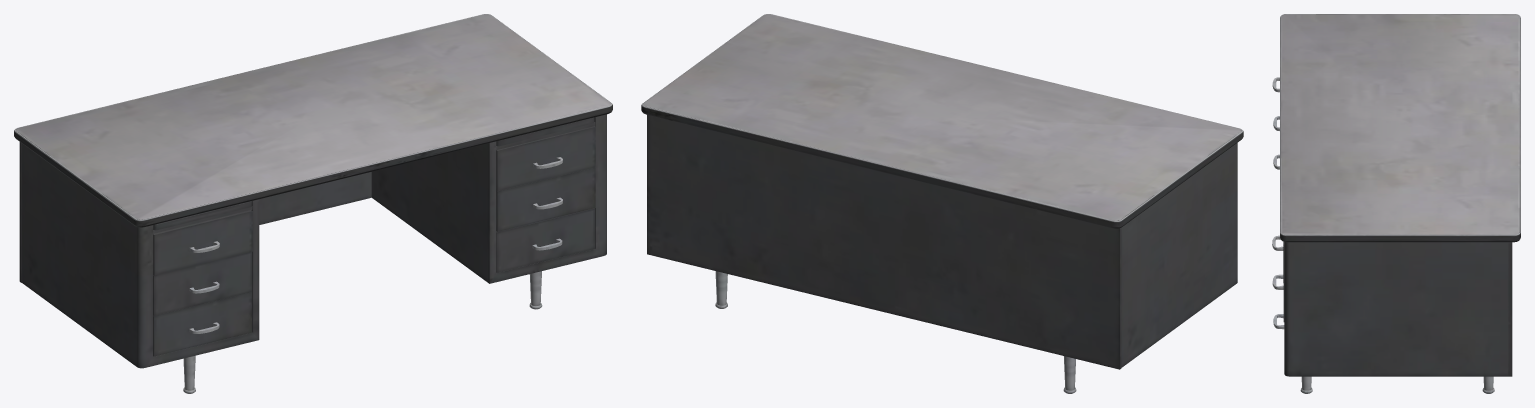
The model's file is metal_office_desk.glb.
3 views of the same model, side by side, from view 1: azimuth 30°, elevation 25°; view 2: azimuth 150°, elevation 25°; view 3: azimuth 270°, elevation 25° (orthographic). The views are drawn at different scales.
Visible parts, largest first — view 1: metal_office_desk, metal_office_desk_drawer_04, metal_office_desk_drawer_01, metal_office_desk_drawer_02, metal_office_desk_drawer_03, metal_office_desk_drawer_06, metal_office_desk_drawer_05, metal_office_desk_tray_01, metal_office_desk_tray_02; view 2: metal_office_desk; view 3: metal_office_desk.
Boxes of the visible parts, x1=… form: metal_office_desk: x1=14, y1=14, x2=612, y2=393; metal_office_desk_drawer_04: x1=153, y1=210, x2=252, y2=275; metal_office_desk_drawer_01: x1=496, y1=126, x2=595, y2=191; metal_office_desk_drawer_02: x1=496, y1=167, x2=595, y2=231; metal_office_desk_drawer_03: x1=496, y1=208, x2=594, y2=272; metal_office_desk_drawer_06: x1=153, y1=292, x2=251, y2=356; metal_office_desk_drawer_05: x1=153, y1=252, x2=251, y2=315; metal_office_desk_tray_01: x1=153, y1=201, x2=251, y2=230; metal_office_desk_tray_02: x1=496, y1=117, x2=594, y2=146; metal_office_desk: x1=641, y1=14, x2=1243, y2=393; metal_office_desk: x1=1280, y1=14, x2=1520, y2=393.
Bounding box in the file's own units: 2 × 0.7874 × 0.9472.
1 material, 1 textured.
